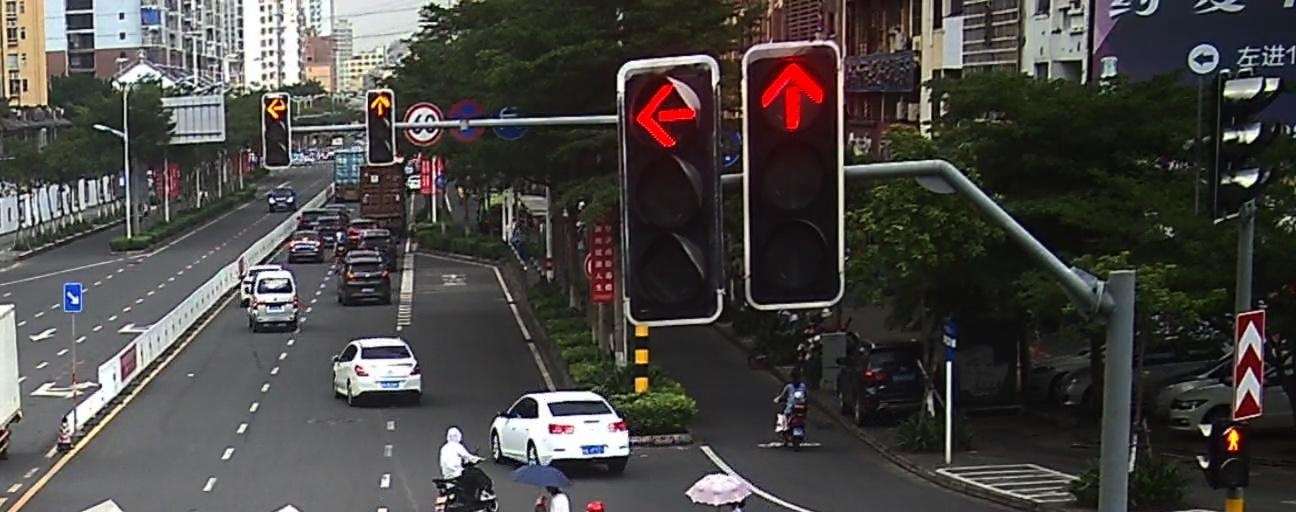redleft: (631, 81, 705, 151), (262, 96, 289, 121)
redpeople: (1222, 423, 1245, 454)
redstraight: (757, 59, 830, 134), (368, 92, 393, 116)
